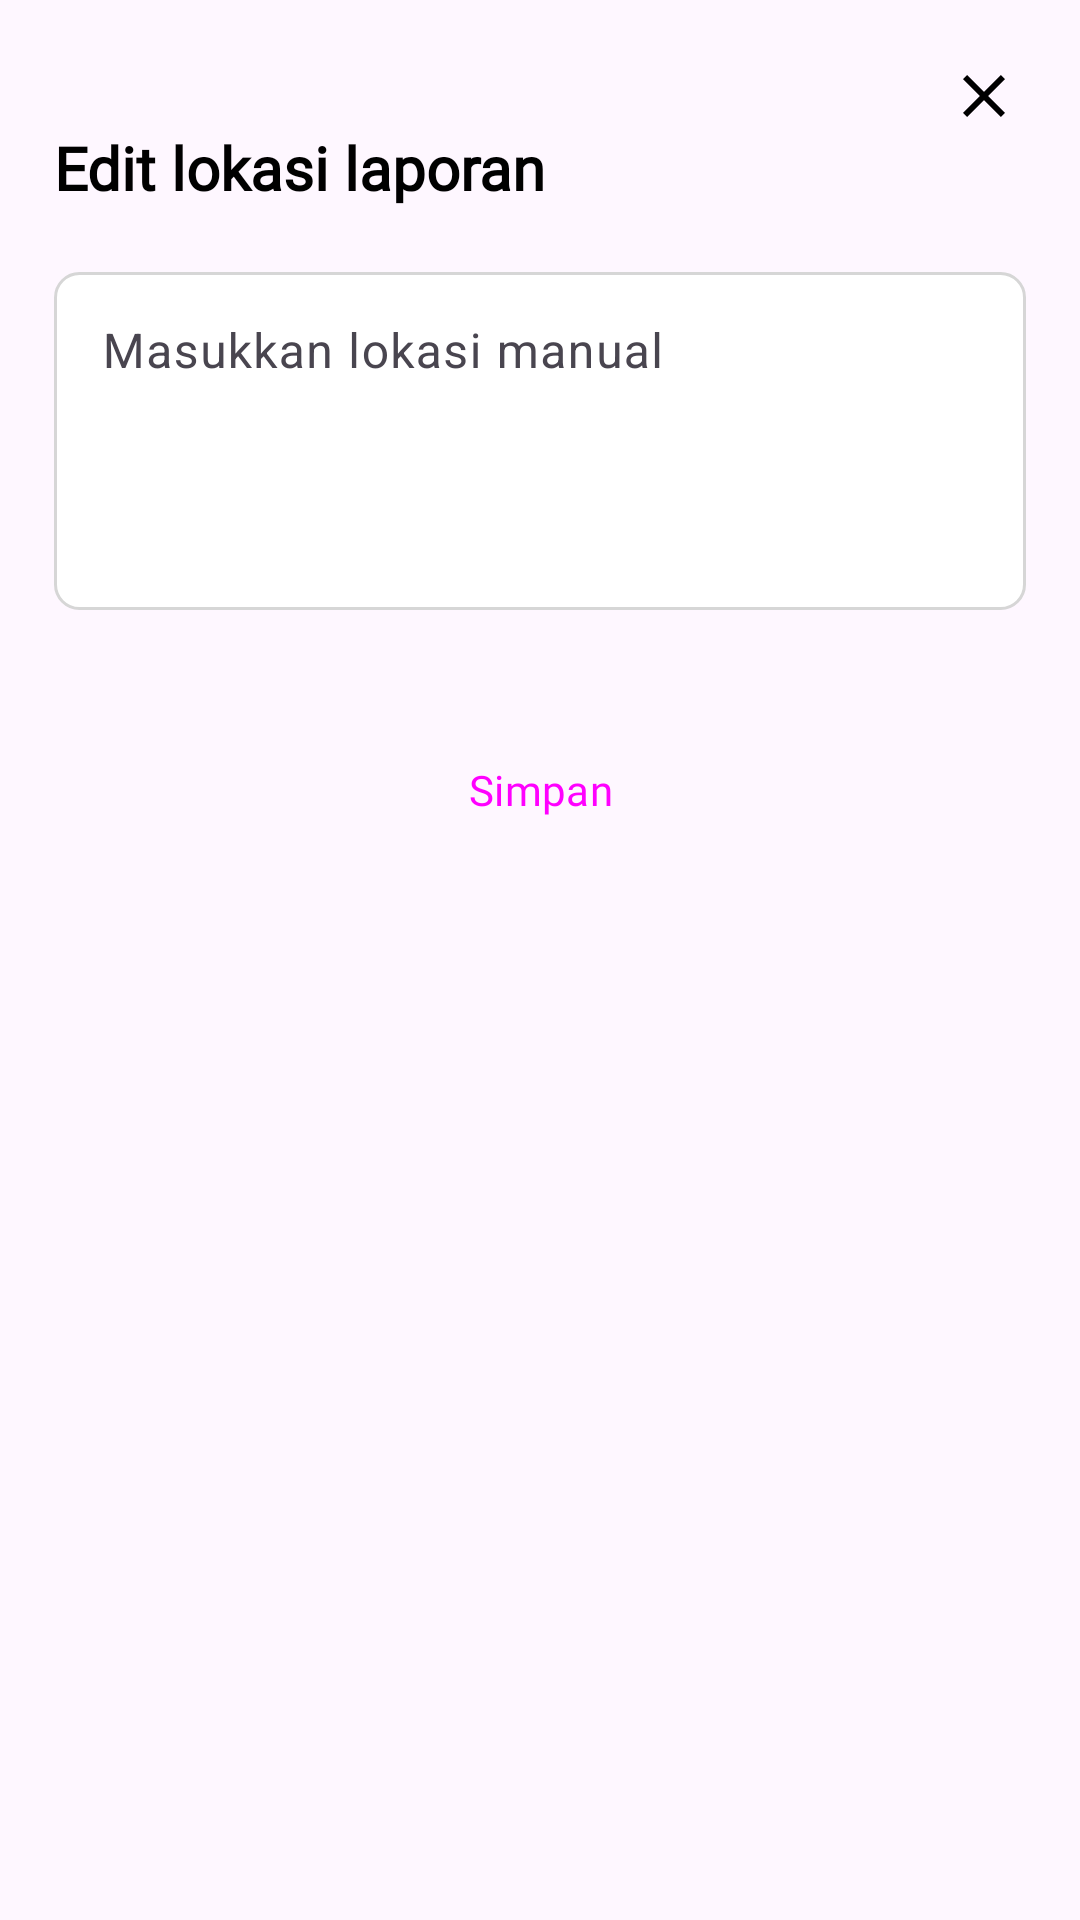

Icons on this 1080*1920 Android screen, each with the point to tap as point (x, y):
Tutup: point (984, 96)
